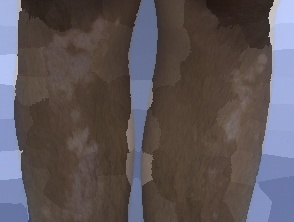vitiligo: (17, 6, 128, 222), (197, 38, 281, 161)
